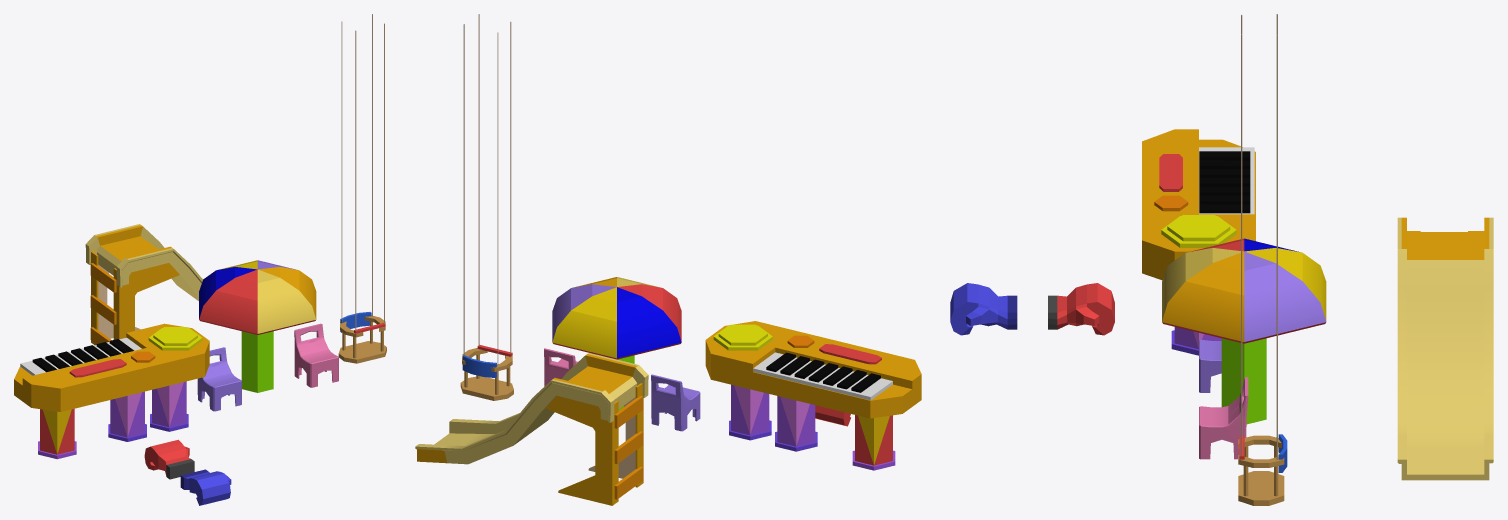
The model's file is Childern_Playground.fbx.
3 renders of one model, left to right at view 1: azimuth 30°, elevation 25°; view 2: azimuth 150°, elevation 25°; view 3: azimuth 270°, elevation 25°, orthographic. The views are drawn at different scales.
Parts seen in each view (by area): view 1: Umbrella7, Piyano, Slide, Chair, Toy_Chair3, Drum_1, Chair2, Drum_3, Drum_2, gloves4, gloves5, Button (+3 smaller); view 2: Slide, Piyano, Umbrella7, Toy_Chair3, Drum_1, Button, Drum_3, Drum_2, Chair2, Button1, Chair, pCylinder2 (+3 smaller); view 3: Slide, Umbrella7, Piyano, Button, Toy_Chair3, gloves5, gloves4, Chair, Button1, Chair2, pCylinder3, pCylinder4 (+1 smaller).
Boxes of the visible parts, x1,y1,x2,y2 form: Umbrella7: (199,260,316,392); Piyano: (14,323,209,411); Slide: (85,224,203,345); Chair: (294,323,338,387); Toy_Chair3: (338,312,386,363); Drum_1: (38,408,76,459); Chair2: (197,347,241,411); Drum_3: (150,381,188,431); Drum_2: (108,391,146,441); gloves4: (144,439,194,479); gloves5: (180,469,231,505); Button: (32,339,133,372); Slide: (415,353,648,505); Piyano: (705,321,921,418); Umbrella7: (552,277,681,410); Toy_Chair3: (460,345,513,400); Drum_1: (852,415,895,470); Button: (766,352,880,392); Drum_3: (729,384,771,440); Drum_2: (775,396,817,451); Chair2: (651,374,700,431); Button1: (713,324,772,350); Chair: (544,348,577,386); pCylinder2: (497,32,498,366); Slide: (1397,217,1493,480); Umbrella7: (1162,238,1326,424); Piyano: (1142,129,1255,280); Button: (1199,151,1250,213); Toy_Chair3: (1238,434,1287,505); gloves5: (950,283,1017,335); gloves4: (1048,283,1114,335); Chair: (1199,377,1248,459); Button1: (1161,215,1236,247); Chair2: (1199,339,1221,392); pCylinder3: (1276,35,1277,459); pCylinder4: (1241,34,1242,456).
Bounding box in the file's own units: 28.68 × 24.28 × 25.05.
